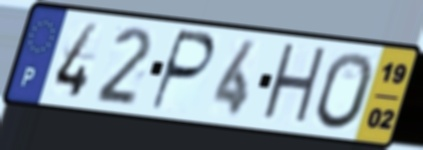2: (90, 25, 154, 108)
4: (209, 37, 258, 120), (49, 20, 98, 101)
H: (257, 40, 330, 131)
O: (313, 49, 376, 132)
P: (147, 27, 218, 114)
